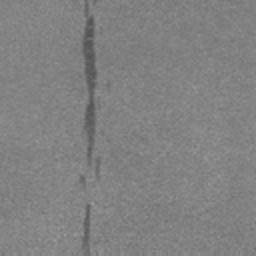Red iron sheet: (82, 0, 98, 166), (82, 204, 91, 256), (96, 158, 100, 174), (80, 176, 85, 184)
